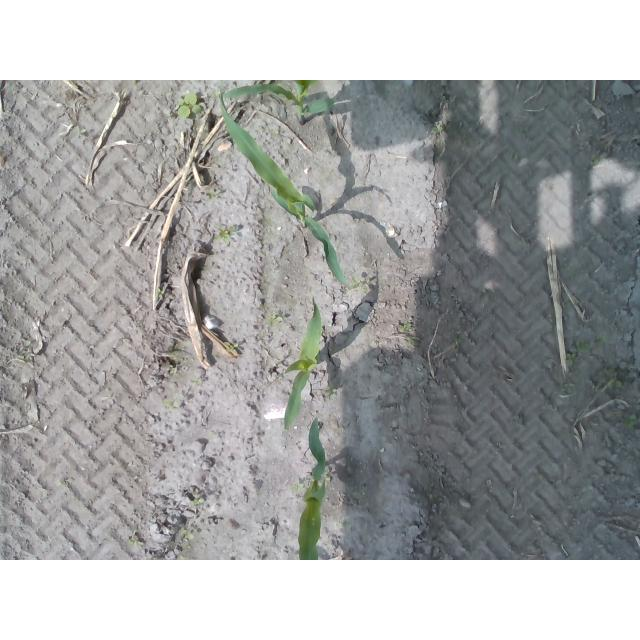Maize: (218, 92, 347, 287), (285, 295, 324, 432), (222, 80, 335, 126), (295, 416, 329, 561)
Weeds: (174, 92, 203, 117), (576, 336, 605, 352), (605, 368, 624, 389), (400, 322, 416, 344), (215, 224, 230, 240), (622, 414, 639, 428), (590, 152, 606, 165), (325, 386, 337, 400), (225, 341, 240, 352), (271, 313, 285, 323), (191, 500, 201, 509), (163, 400, 173, 409), (290, 484, 302, 491), (567, 351, 577, 359), (157, 288, 164, 299), (128, 537, 136, 545)
